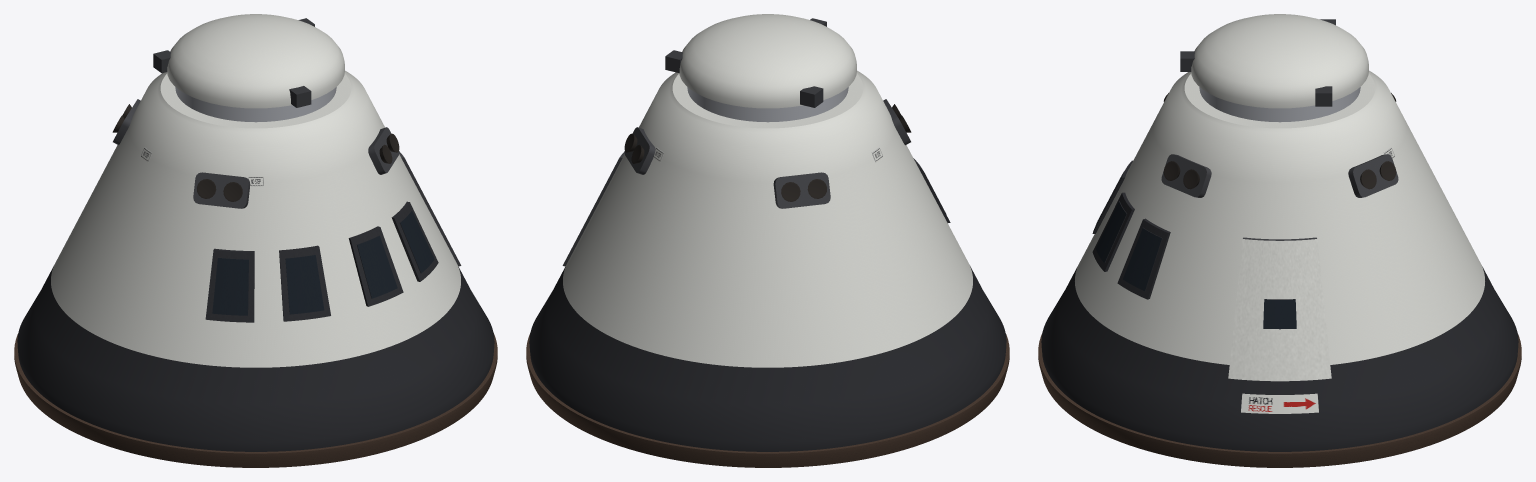
Rendered from crew-capsule.glb.
3 renders of one model, left to right at view 1: azimuth 30°, elevation 25°; view 2: azimuth 150°, elevation 25°; view 3: azimuth 270°, elevation 25°, orthographic.
Visible parts, largest first — view 1: Pressure vessel and back shell, Docking port and nose cap, Heat shield, Windows, Window frames, Thruster pods; view 2: Pressure vessel and back shell, Docking port and nose cap, Heat shield, Thruster pods; view 3: Pressure vessel and back shell, Docking port and nose cap, Side hatch, Heat shield, Thruster pods, Windows, Window frames, Hatch and step labels.
Boxes of the visible parts, <box> form: Pressure vessel and back shell: <box>17,70,494,451</box>; Docking port and nose cap: <box>153,14,344,122</box>; Heat shield: <box>14,333,497,467</box>; Windows: <box>212,210,434,315</box>; Window frames: <box>205,201,438,322</box>; Thruster pods: <box>112,99,399,208</box>; Pressure vessel and back shell: <box>529,70,1006,451</box>; Docking port and nose cap: <box>665,14,856,122</box>; Heat shield: <box>526,333,1009,467</box>; Thruster pods: <box>624,99,911,208</box>; Pressure vessel and back shell: <box>1041,70,1518,451</box>; Docking port and nose cap: <box>1180,14,1368,122</box>; Side hatch: <box>1228,237,1331,381</box>; Heat shield: <box>1038,333,1521,467</box>; Thruster pods: <box>1161,93,1398,197</box>; Windows: <box>1095,171,1162,290</box>; Window frames: <box>1092,160,1170,299</box>; Hatch and step labels: <box>1241,147,1395,413</box>.
Size of the model in its own units: 4.56 by 3.76 by 4.56.
9 materials, 9 textured.
